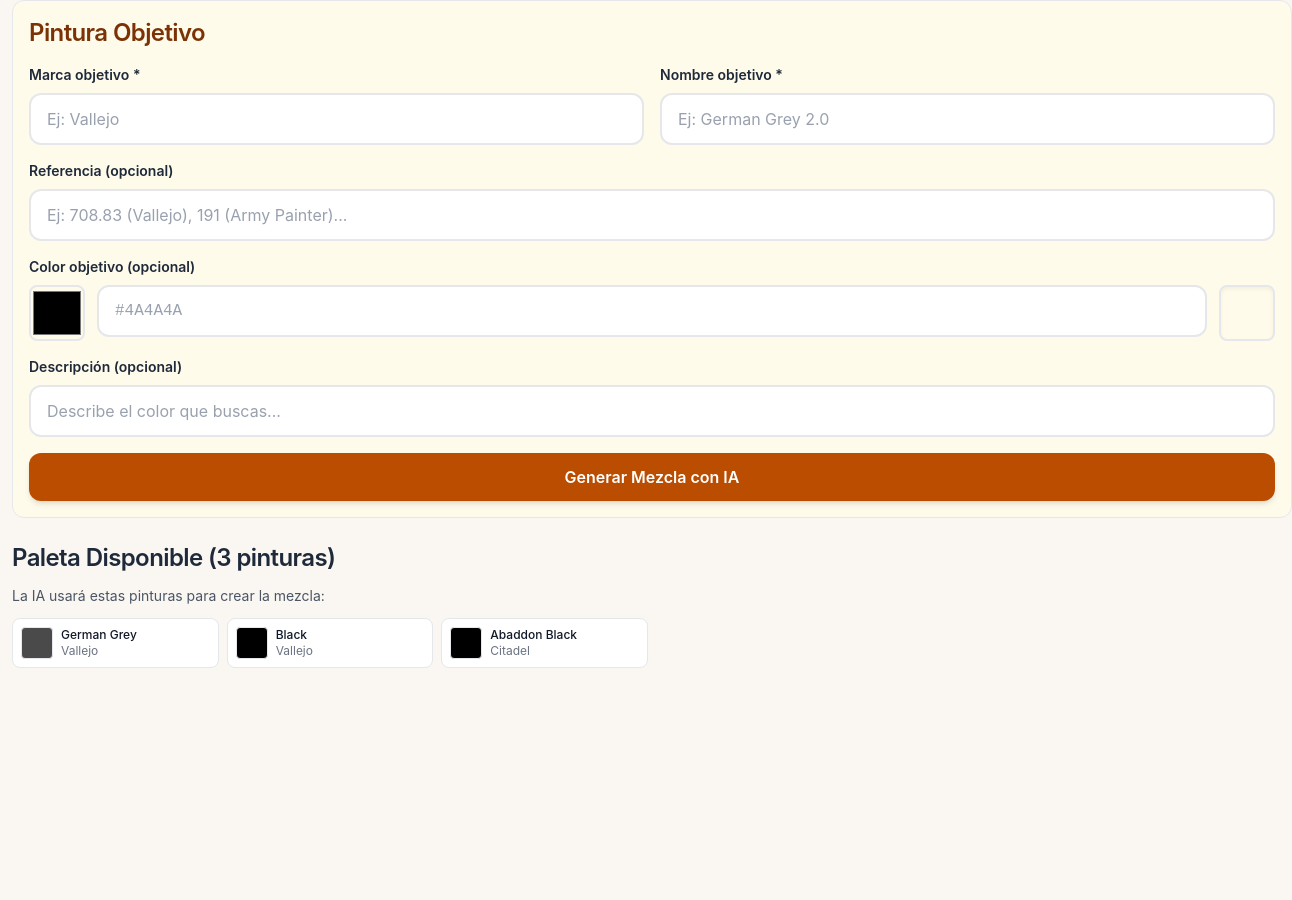
MixForm › T9.11: should validate required fields
The width and height of the screenshot is (1292, 900).
Note: Submit empty form
Step 1. Click the button "Generar Mezcla con IA" → (652, 477), box [29,453,1275,501]
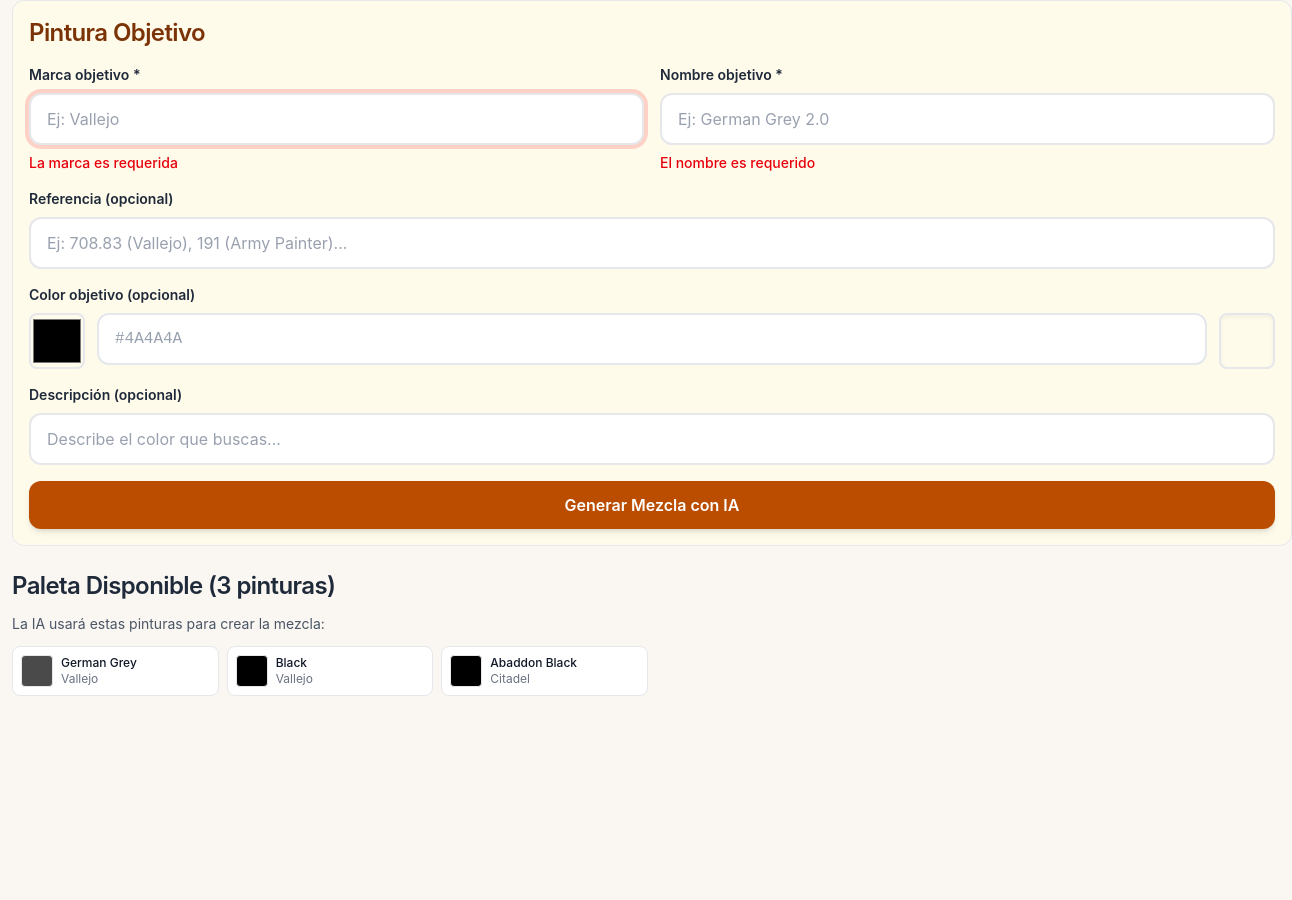
Check: the text "La marca es requerida" is shown, box [29,154,178,171]
Check: the text "El nombre es requerido" is shown, box [660,154,815,171]
